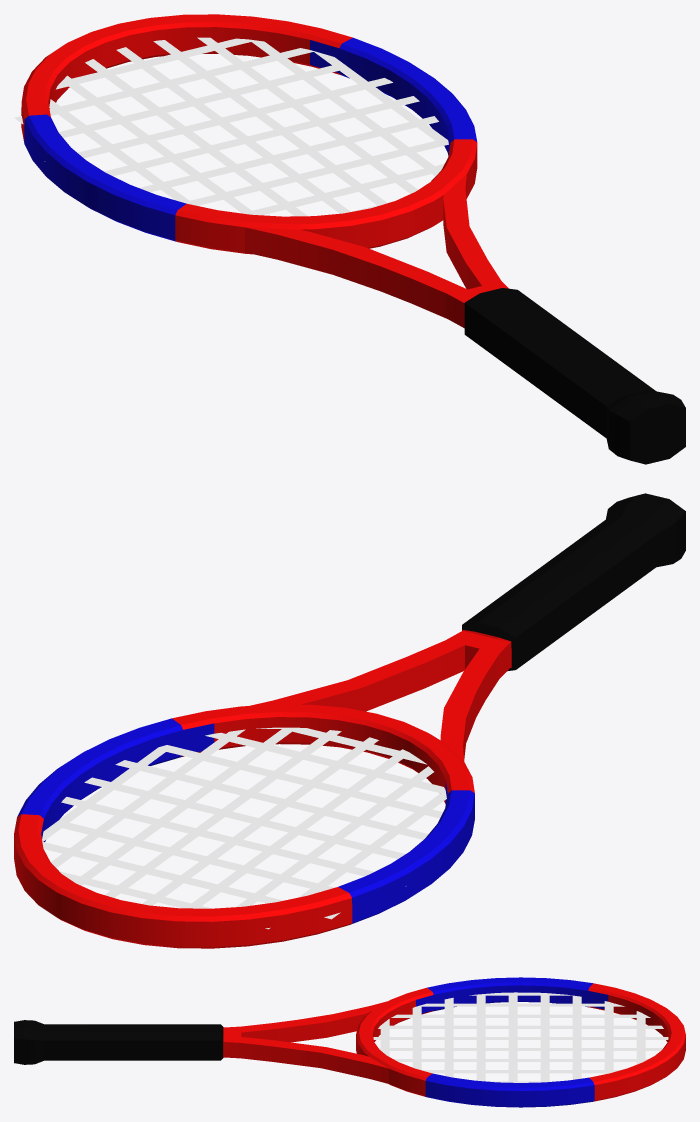
Rendered from Tennis Racquet.fbx.
3 renders of one model, top to bottom at view 1: azimuth 30°, elevation 25°; view 2: azimuth 150°, elevation 25°; view 3: azimuth 270°, elevation 25°, orthographic. The views are drawn at different scales.
Visible parts, largest first — view 1: polySurface1, Grid; view 2: polySurface1, Grid; view 3: polySurface1, Grid.
Part boxes in pixels (x1,y1,x2,y2): polySurface1: (21,14,685,464); Grid: (14,37,448,216); polySurface1: (14,493,685,948); Grid: (42,727,446,929); polySurface1: (14,977,685,1107); Grid: (373,992,668,1082).
Bounding box in the file's own units: 759 × 114 × 1924.
